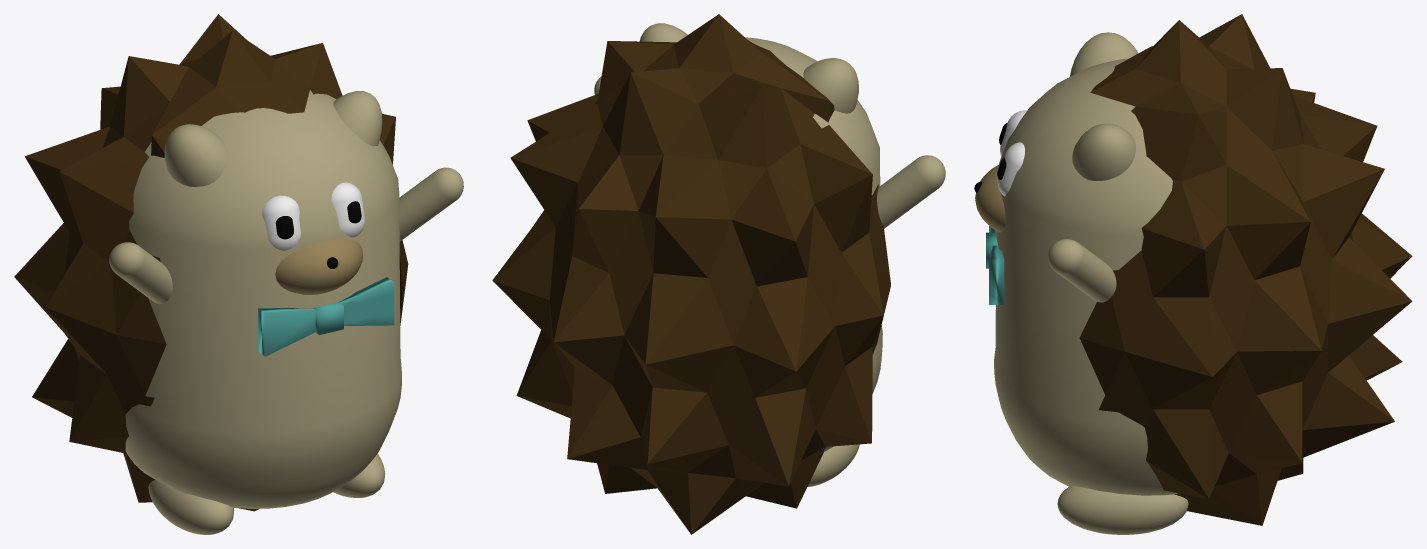
The model's file is Uniguri.glb.
3 views of the same model, side by side, from view 1: azimuth 30°, elevation 25°; view 2: azimuth 150°, elevation 25°; view 3: azimuth 270°, elevation 25° (orthographic). The views are drawn at different scales.
Visible parts, largest first — view 1: 球, ICO球, 球.003, 球.006, 球.012, 球.001, 球.002, 立方体.002, 立方体.001, 球.005, 球.008, 球.007 (+2 smaller); view 2: ICO球, 球, 球.002, 球.006, 球.012, 球.005; view 3: ICO球, 球, 球.011, 球.005, 球.001, 球.006, 球.003, 立方体.001, 球.007.
Boxes of the visible parts, left/top/right/bottom form: 球: left=125, top=90, right=401, bottom=508; ICO球: left=14, top=14, right=408, bottom=511; 球.003: left=275, top=238, right=362, bottom=294; 球.006: left=164, top=124, right=227, bottom=186; 球.012: left=148, top=480, right=234, bottom=534; 球.001: left=399, top=167, right=463, bottom=241; 球.002: left=109, top=242, right=172, bottom=303; 立方体.002: left=258, top=308, right=315, bottom=356; 立方体.001: left=339, top=277, right=394, bottom=325; 球.005: left=333, top=91, right=382, bottom=146; 球.008: left=262, top=195, right=300, bottom=250; 球.007: left=331, top=182, right=365, bottom=237; ICO球: left=492, top=14, right=890, bottom=534; 球: left=745, top=37, right=882, bottom=451; 球.002: left=877, top=155, right=945, bottom=228; 球.006: left=803, top=58, right=858, bottom=113; 球.012: left=807, top=444, right=859, bottom=486; 球.005: left=639, top=23, right=687, bottom=42; ICO球: left=1079, top=14, right=1412, bottom=525; 球: left=994, top=58, right=1178, bottom=495; 球.011: left=1057, top=485, right=1188, bottom=534; 球.005: left=1072, top=123, right=1135, bottom=180; 球.001: left=1048, top=239, right=1116, bottom=302; 球.006: left=1070, top=32, right=1138, bottom=76; 球.003: left=975, top=165, right=1005, bottom=232; 立方体.001: left=989, top=245, right=1004, bottom=304; 球.007: left=997, top=142, right=1024, bottom=196.
Size of the model in its own units: 4.66 by 5.82 by 4.86.
